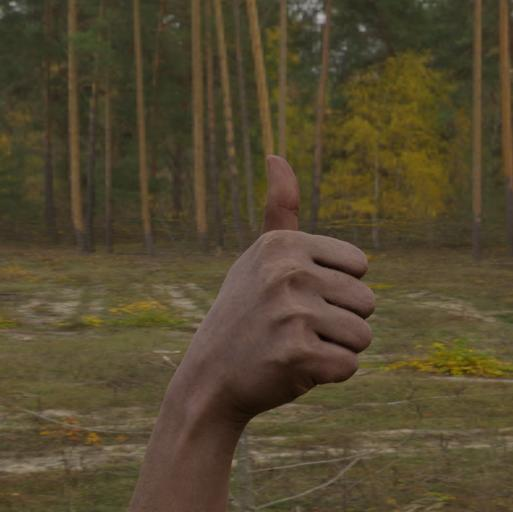thumbs-up: (188, 152, 380, 456)
